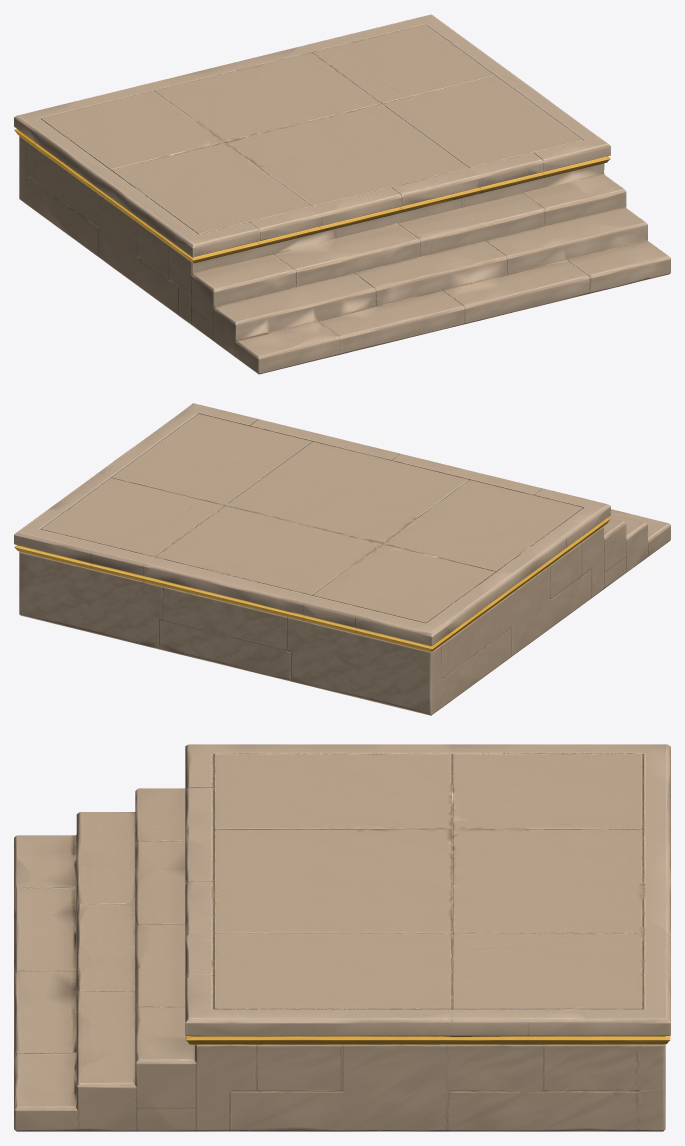
The model's file is Meshy_AI_cathedral_stone_dais_20261105_image-to-3d-texture.fbx.
3 renders of one model, top to bottom at view 1: azimuth 30°, elevation 25°; view 2: azimuth 150°, elevation 25°; view 3: azimuth 270°, elevation 25°, orthographic. The views are drawn at different scales.
Parts seen in each view (by area): view 1: Mesh_0; view 2: Mesh_0; view 3: Mesh_0.
Part boxes in pixels (x1,y1,x2,y2): Mesh_0: (14,14,670,374); Mesh_0: (14,403,670,715); Mesh_0: (14,744,670,1131).
Size of the model in its own units: 190 by 36.72 by 191.
1 material, 1 textured.
